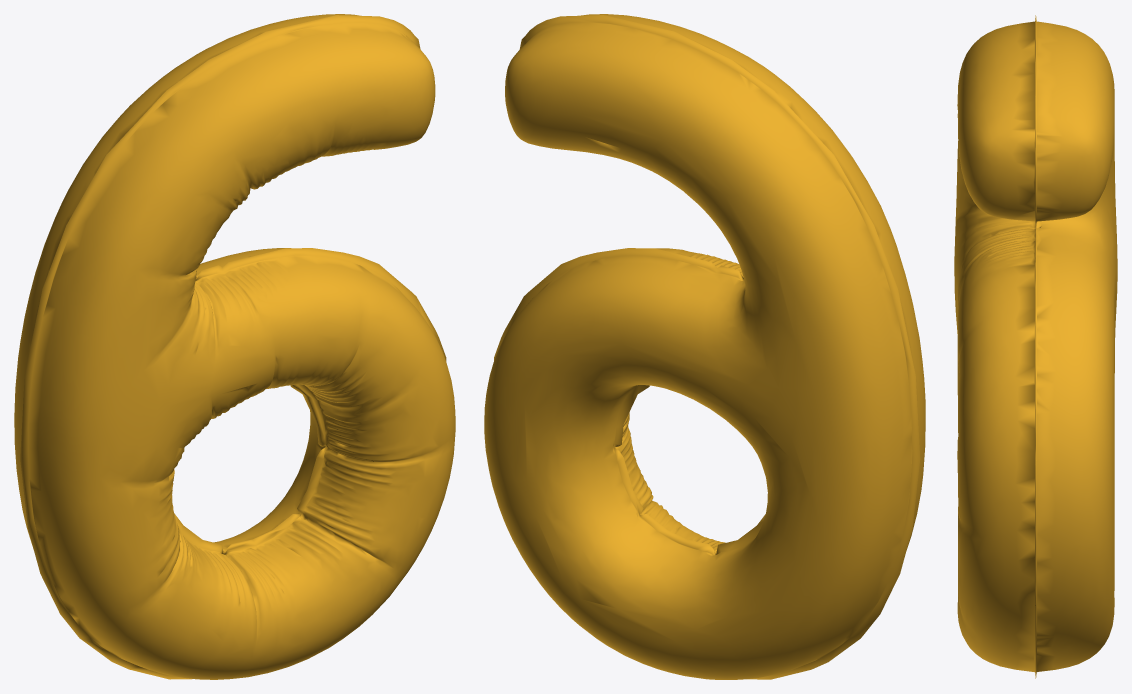
File: zahlen-gold-nr6-gruppe.glb
The picture shows the model from 3 angles, left to right: view 1: azimuth 30°, elevation 25°; view 2: azimuth 150°, elevation 25°; view 3: azimuth 270°, elevation 25°; orthographic projection.
Parts seen in each view (by area): view 1: nr6; view 2: nr6; view 3: nr6.
Boxes of the visible parts, x1,y1,x2,y2 form: nr6: (14,14,455,679); nr6: (484,14,925,679); nr6: (954,15,1117,678).
Bounding box in the file's own units: 0.4483 × 0.6365 × 0.147.
